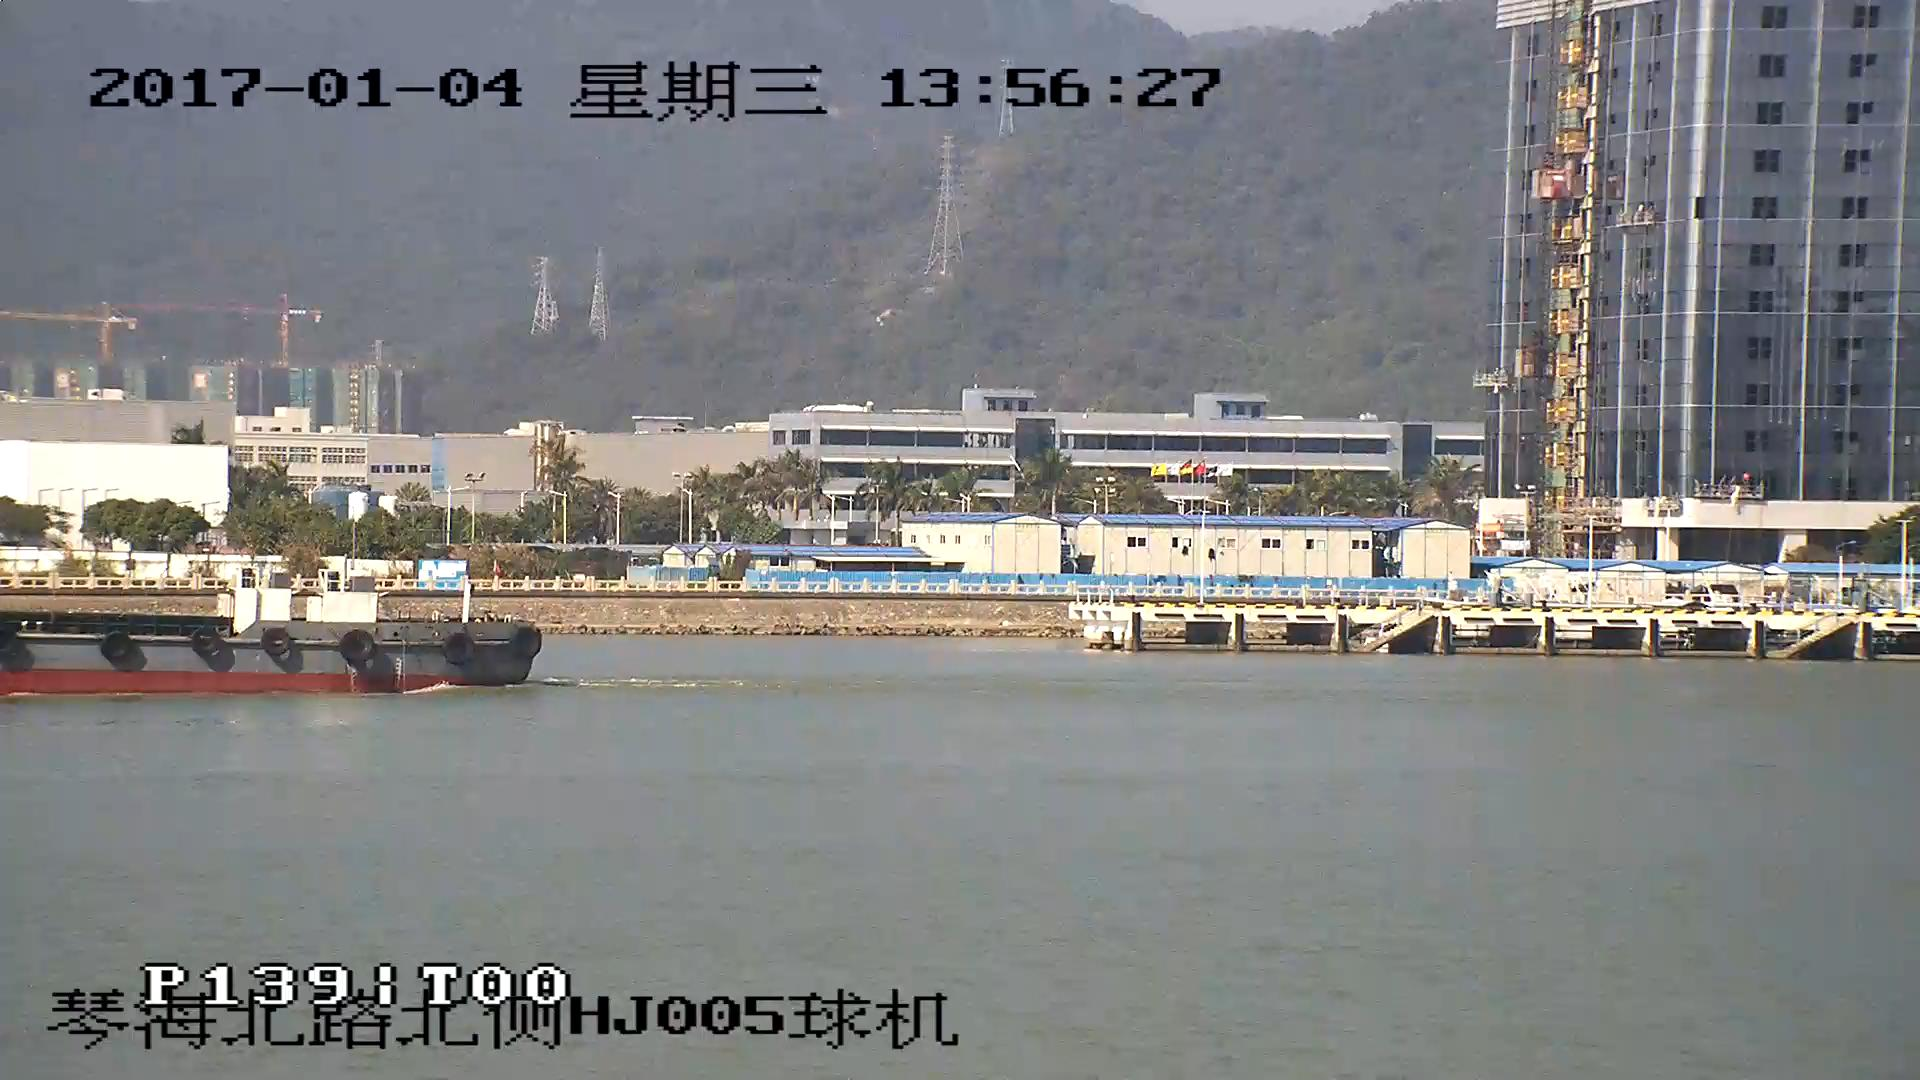general cargo ship: (1, 590, 537, 695)
